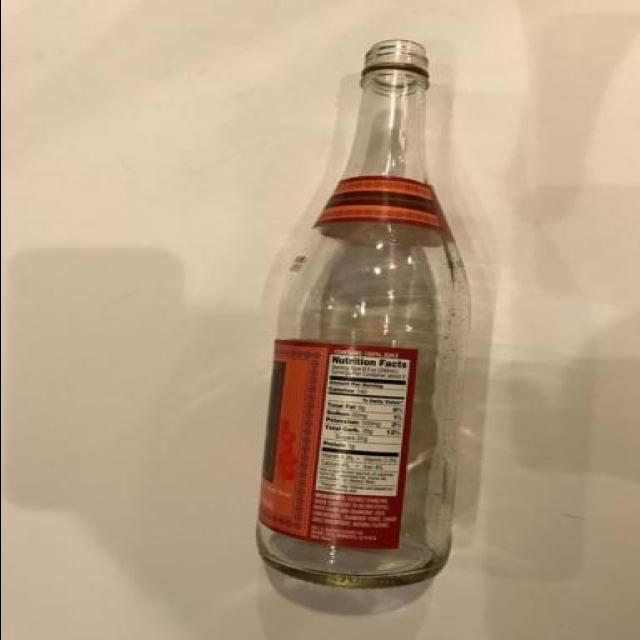Glass Bottle: (250, 37, 472, 585)
